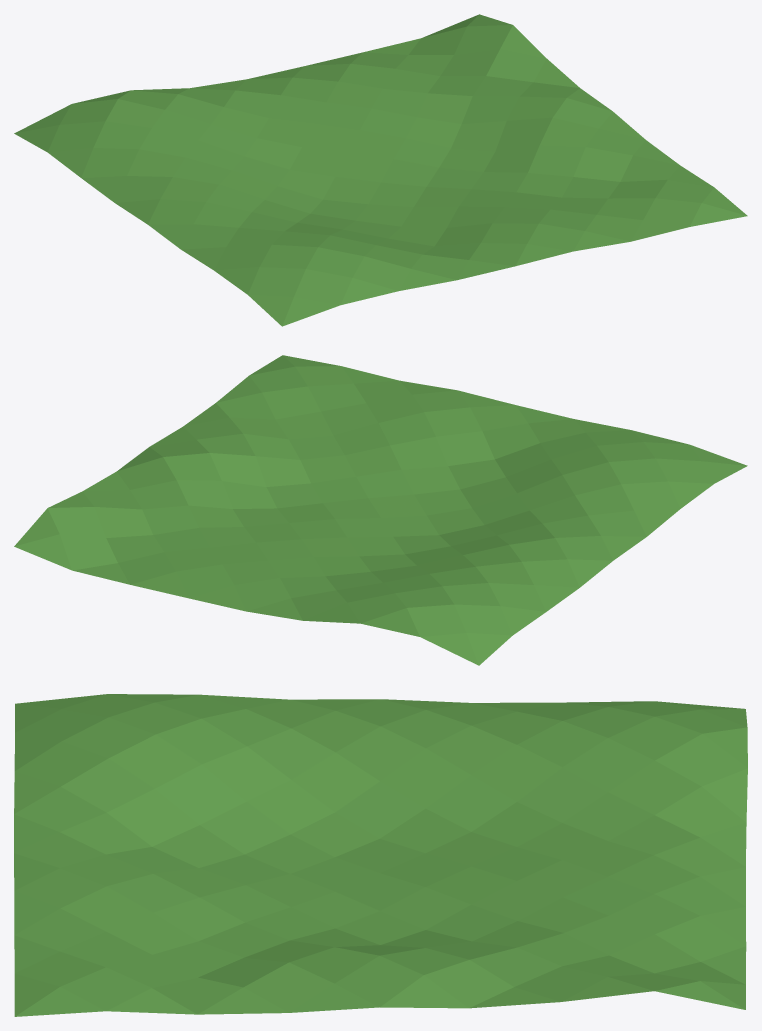
Rendered from Ground.fbx.
The picture shows the model from 3 angles, top to bottom: view 1: azimuth 30°, elevation 25°; view 2: azimuth 150°, elevation 25°; view 3: azimuth 270°, elevation 25°; orthographic projection. The views are drawn at different scales.
Parts seen in each view (by area): view 1: Ground; view 2: Ground; view 3: Ground.
Boxes of the visible parts, bbox=[...] form: Ground: bbox=[14, 14, 747, 326]; Ground: bbox=[14, 355, 747, 665]; Ground: bbox=[14, 694, 747, 1016].
Bounding box in the file's own units: 100 × 100 × 7.18.
